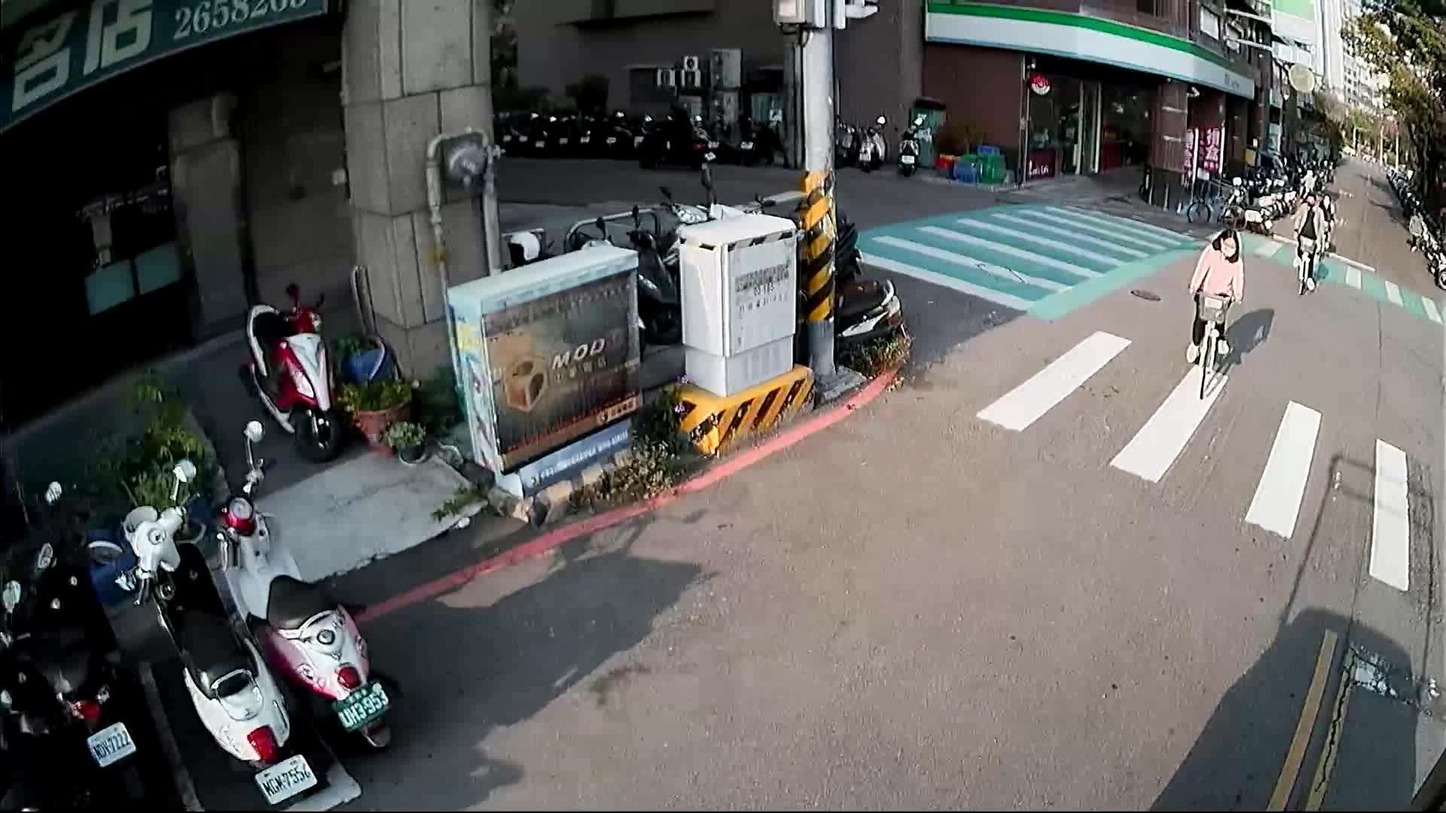person: (1181, 224, 1243, 364), (1290, 187, 1323, 289)
